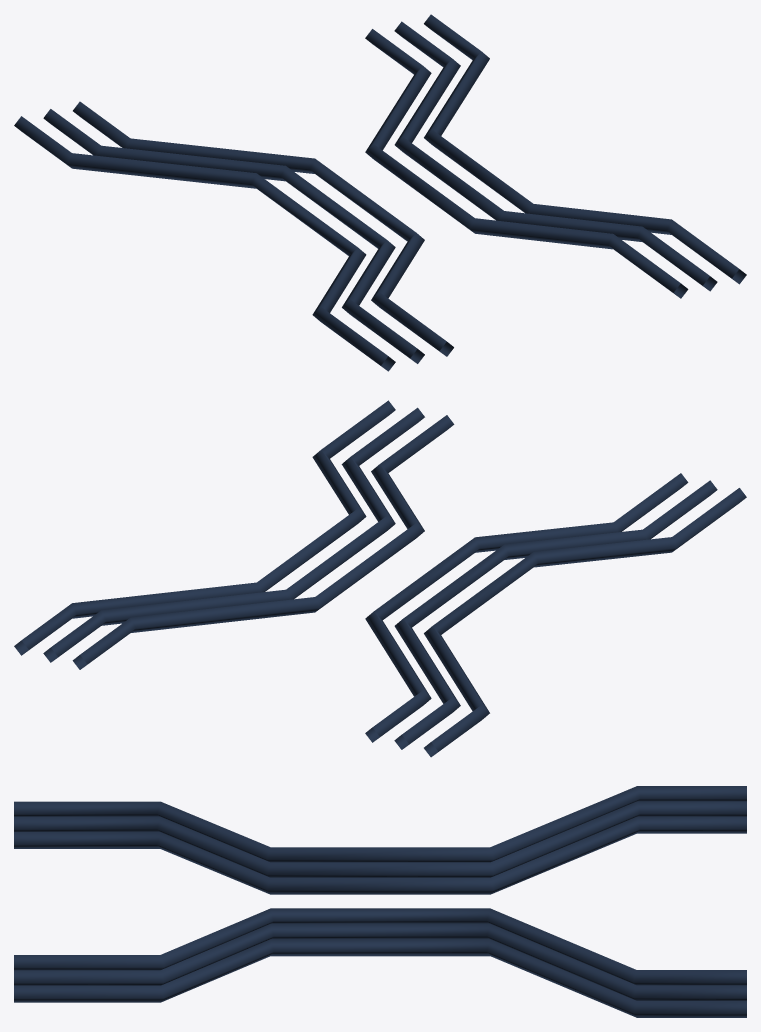
Rendered from ConnectorTwo.fbx.
3 views of the same model, one above another, from view 1: azimuth 30°, elevation 25°; view 2: azimuth 150°, elevation 25°; view 3: azimuth 270°, elevation 25° (orthographic). The views are drawn at different scales.
Parts seen in each view (by area): view 1: ConnectorTwo; view 2: ConnectorTwo; view 3: ConnectorTwo.
Boxes of the visible parts, left/top/right/bottom form: ConnectorTwo: left=14, top=14, right=746, bottom=371; ConnectorTwo: left=14, top=400, right=746, bottom=757; ConnectorTwo: left=14, top=786, right=746, bottom=1017.
Size of the model in its own units: 145 by 5.69 by 200.
